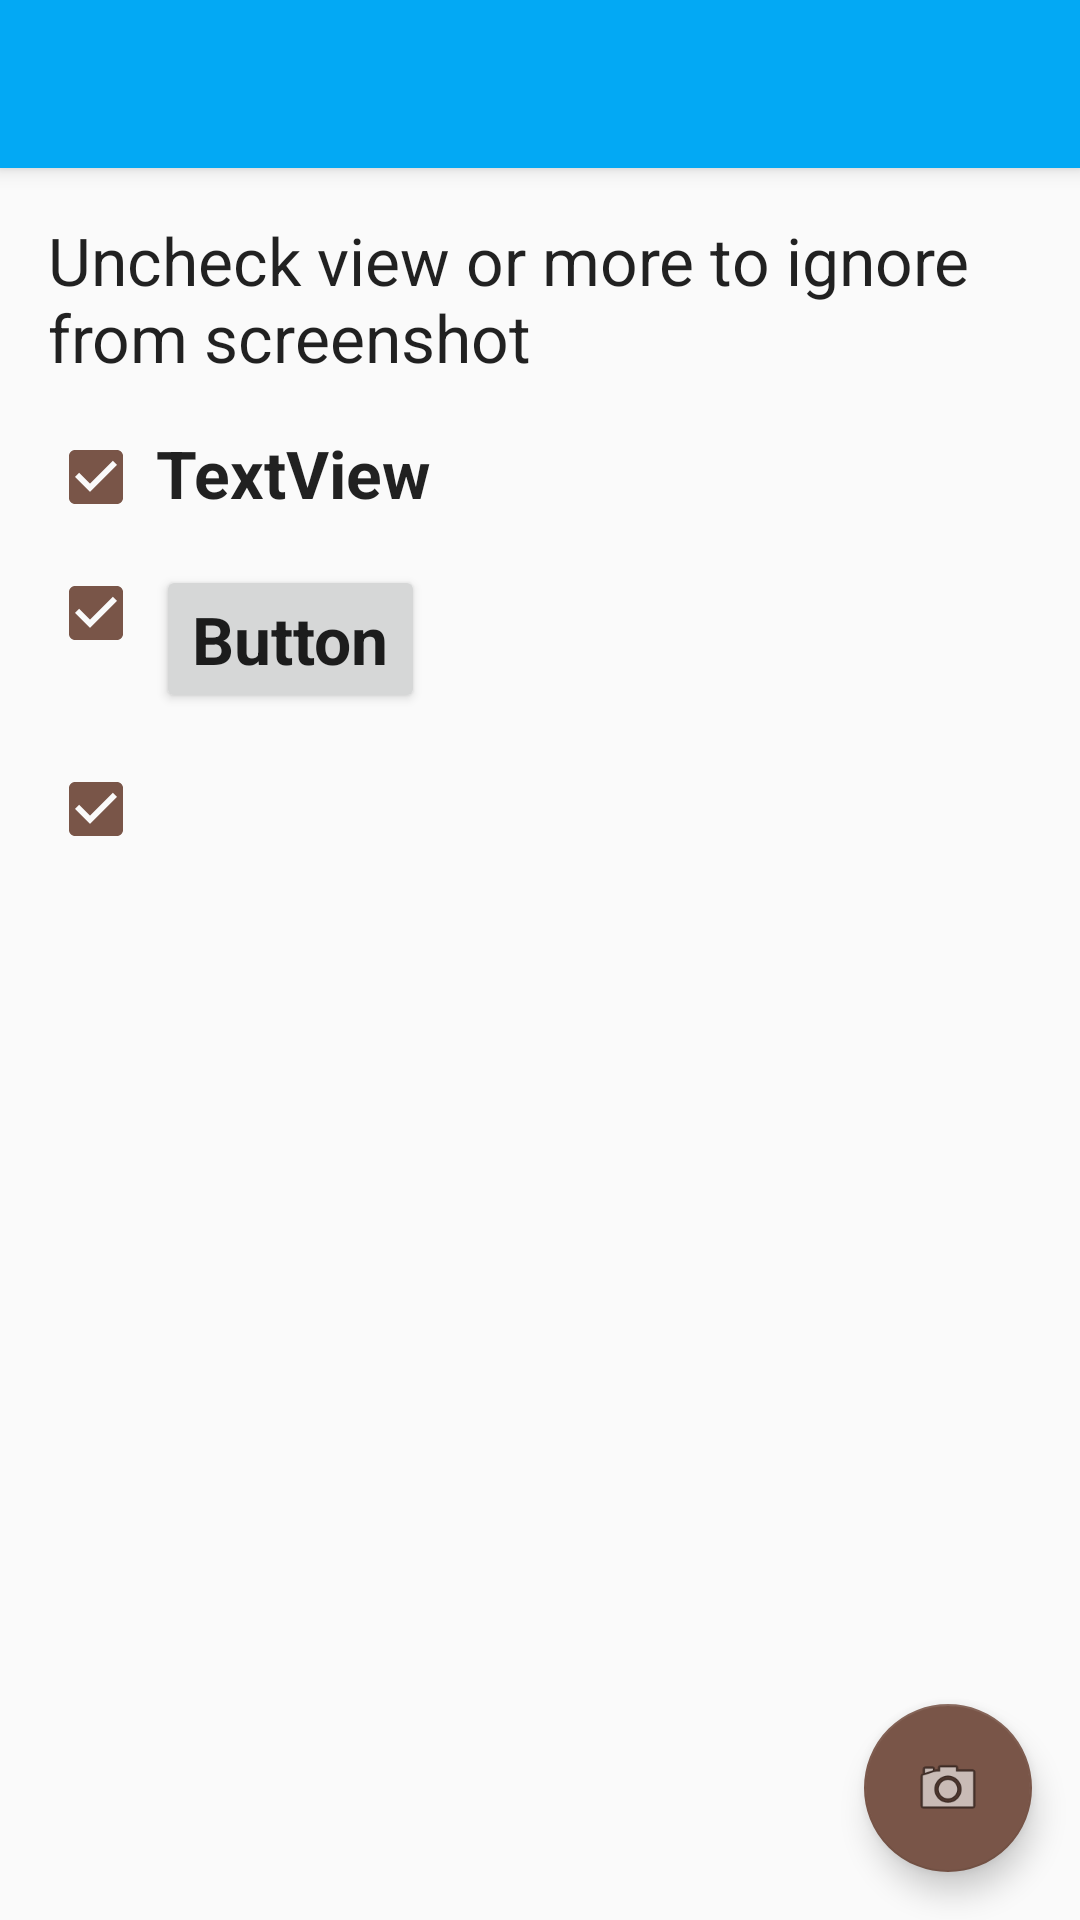

Point at icon controls on the screen. Image size 1080w x 1920h, points as (x=x, y=y).
camera: (x=948, y=1788)
